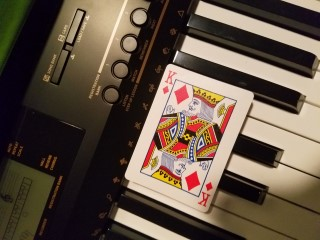KingOfDiamonds: (124, 63, 255, 214)
